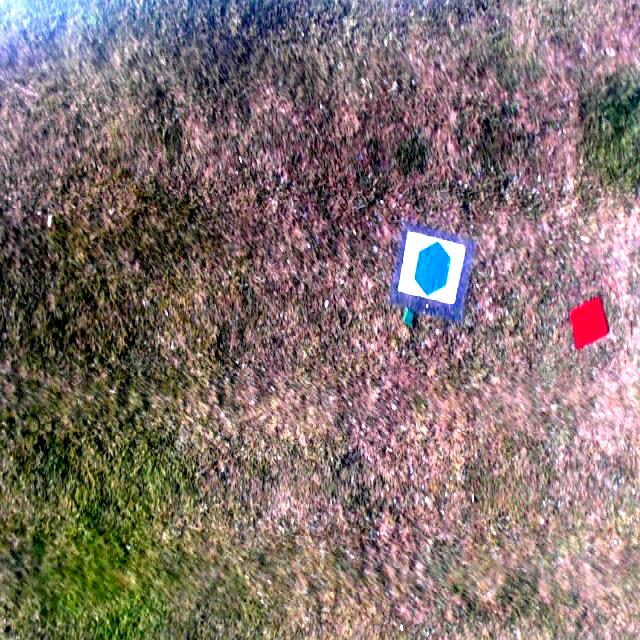blue_hexagon: (414, 240, 452, 296)
red_square: (570, 296, 609, 350)
